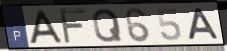5: (156, 7, 184, 42)
6: (124, 7, 152, 44)
A: (28, 8, 65, 45), (187, 7, 221, 41)
F: (58, 8, 89, 46)
Q: (91, 7, 125, 44)
